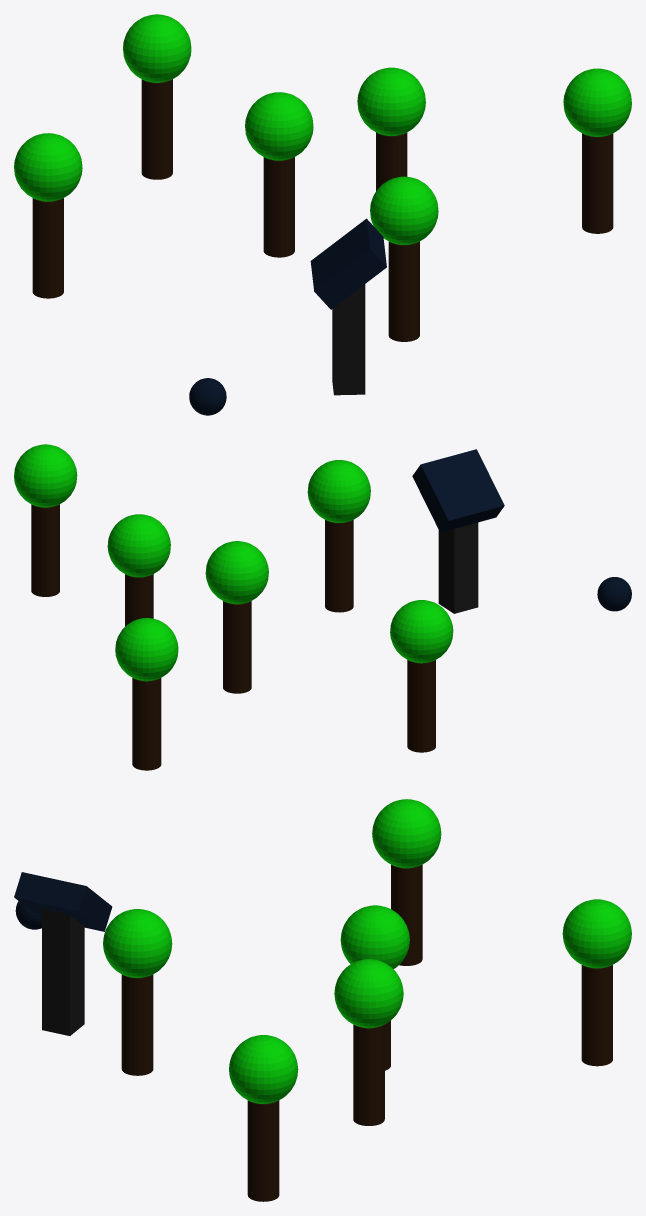
Rendered from exercise20069.obj.
3 renders of one model, top to bottom at view 1: azimuth 30°, elevation 25°; view 2: azimuth 150°, elevation 25°; view 3: azimuth 270°, elevation 25°, orthographic. The views are drawn at different scales.
Parts seen in each view (by area): view 1: Cube.001, Sphere.005, Sphere.002, Sphere.003, Sphere.006, Sphere, Sphere.004, Cube, Cylinder.002, Cylinder.006, Cylinder.005, Cylinder.003 (+4 smaller); view 2: Cube.001, Cube, Sphere, Sphere.003, Sphere.005, Sphere.002, Sphere.006, Sphere.004, Cylinder.005, Cylinder.006, Cylinder.003, Cylinder.004 (+4 smaller); view 3: Cube, Sphere.006, Sphere, Sphere.003, Sphere.005, Sphere.004, Sphere.002, Cube.001, Cylinder.003, Cylinder.004, Cylinder.005, Cylinder (+2 smaller).
Part boxes in pixels (x1,y1,x2,y2): Cube.001: [310, 218, 386, 309]; Sphere.005: [123, 14, 191, 82]; Sphere.002: [245, 92, 313, 160]; Sphere.003: [563, 68, 631, 136]; Sphere.006: [14, 133, 82, 201]; Sphere: [357, 67, 425, 135]; Sphere.004: [370, 176, 438, 244]; Cube: [332, 284, 365, 395]; Cylinder.002: [263, 157, 294, 257]; Cylinder.006: [32, 198, 63, 298]; Cylinder.005: [141, 79, 172, 179]; Cylinder.003: [582, 133, 613, 233]; Cube.001: [412, 449, 504, 532]; Cube: [438, 522, 478, 613]; Sphere: [107, 514, 170, 577]; Sphere.003: [14, 444, 77, 507]; Sphere.005: [115, 618, 178, 681]; Sphere.002: [205, 541, 268, 604]; Sphere.006: [390, 600, 453, 663]; Sphere.004: [307, 460, 370, 522]; Cylinder.005: [132, 678, 161, 770]; Cylinder.006: [407, 660, 435, 752]; Cylinder.003: [31, 504, 59, 596]; Cylinder.004: [325, 520, 353, 612]; Cube: [42, 909, 84, 1035]; Sphere.006: [372, 799, 441, 868]; Sphere: [334, 959, 403, 1028]; Sphere.003: [229, 1035, 298, 1103]; Sphere.005: [562, 899, 631, 968]; Sphere.004: [103, 909, 172, 977]; Sphere.002: [340, 905, 409, 968]; Cube.001: [14, 872, 112, 931]; Cylinder.003: [247, 1100, 279, 1201]; Cylinder.004: [121, 974, 153, 1075]; Cylinder.005: [581, 965, 612, 1066]; Cylinder: [353, 1024, 384, 1125].
Size of what is drawn, in the model's own units: 40.53 by 11.23 by 39.13.
